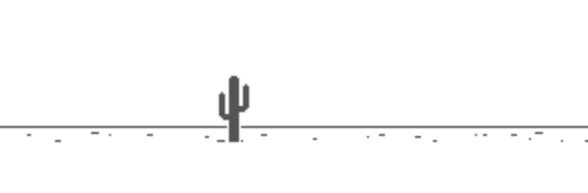t-rex: (215, 71, 254, 146)
